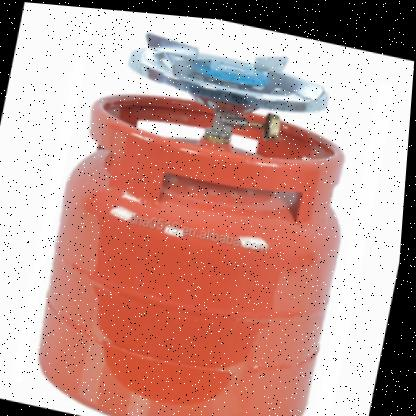gas-tank: (5, 42, 406, 415)
